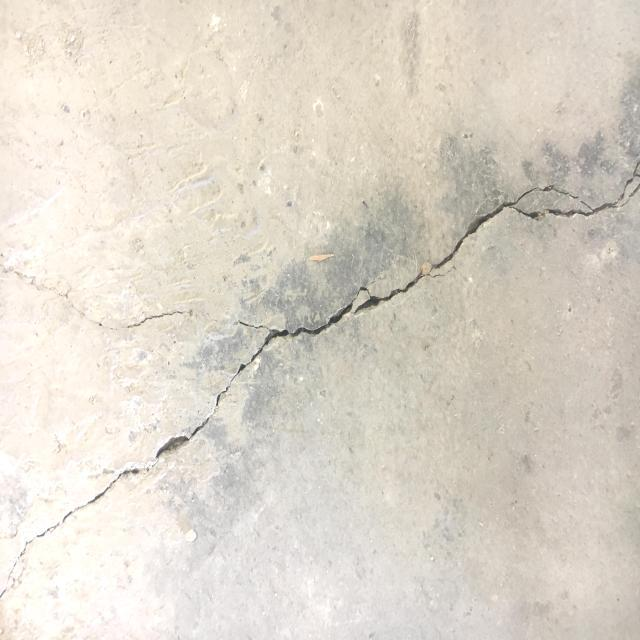SurfaceCrack: (2, 120, 640, 635)
